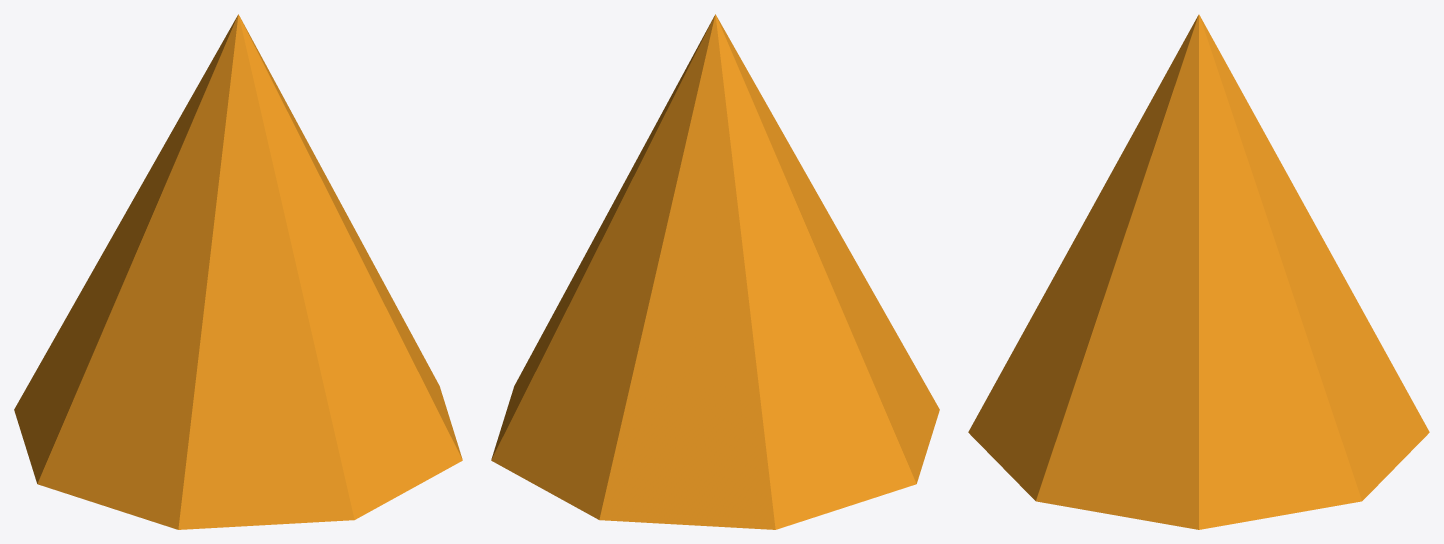
3 views of the same model, side by side, from view 1: azimuth 30°, elevation 25°; view 2: azimuth 150°, elevation 25°; view 3: azimuth 270°, elevation 25° (orthographic).
Visible parts, largest first — view 1: SM_Primitive_Cone_02; view 2: SM_Primitive_Cone_02; view 3: SM_Primitive_Cone_02.
Part boxes in pixels (x1,y1,x2,y2): SM_Primitive_Cone_02: (14,14,462,529); SM_Primitive_Cone_02: (491,14,939,529); SM_Primitive_Cone_02: (968,14,1429,529).
Size of the model in its own units: 100 by 100 by 100.
